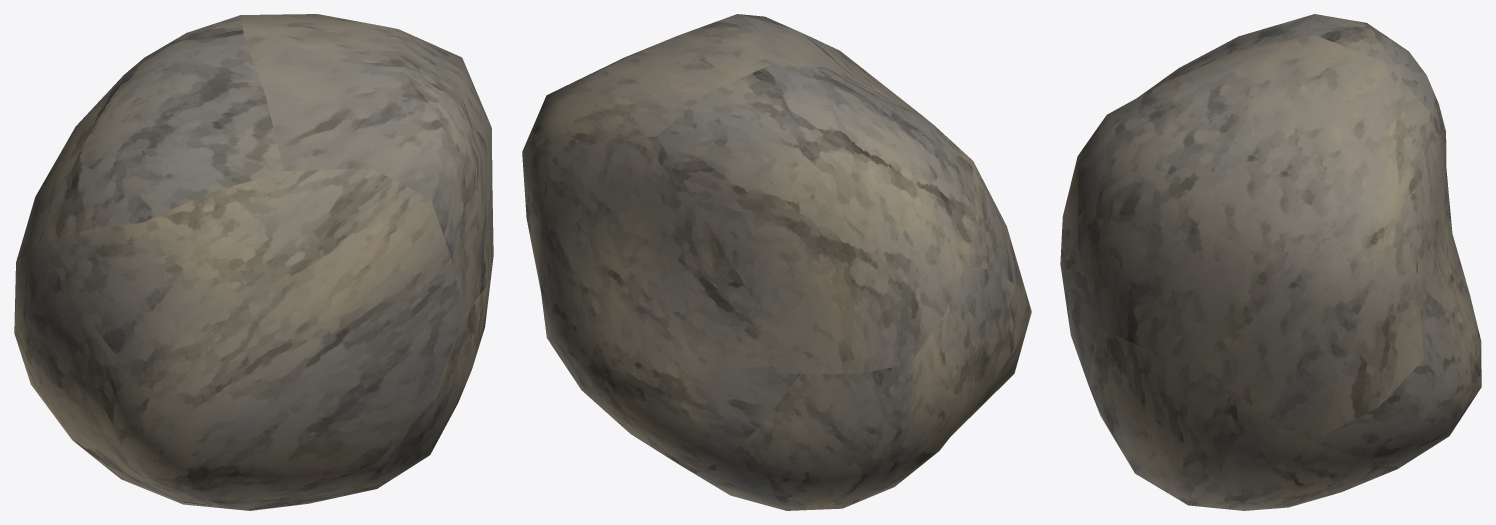
File: rock1.fbx
3 renders of one model, left to right at view 1: azimuth 30°, elevation 25°; view 2: azimuth 150°, elevation 25°; view 3: azimuth 270°, elevation 25°, orthographic. The views are drawn at different scales.
Visible parts, largest first — view 1: Mossy_Rock_1:Mesh; view 2: Mossy_Rock_1:Mesh; view 3: Mossy_Rock_1:Mesh.
Boxes of the visible parts, <box> form: Mossy_Rock_1:Mesh: <box>14,14,493,510</box>; Mossy_Rock_1:Mesh: <box>522,14,1031,510</box>; Mossy_Rock_1:Mesh: <box>1060,14,1481,510</box>.
Bounding box in the file's own units: 3.61 × 3.4 × 2.83.
